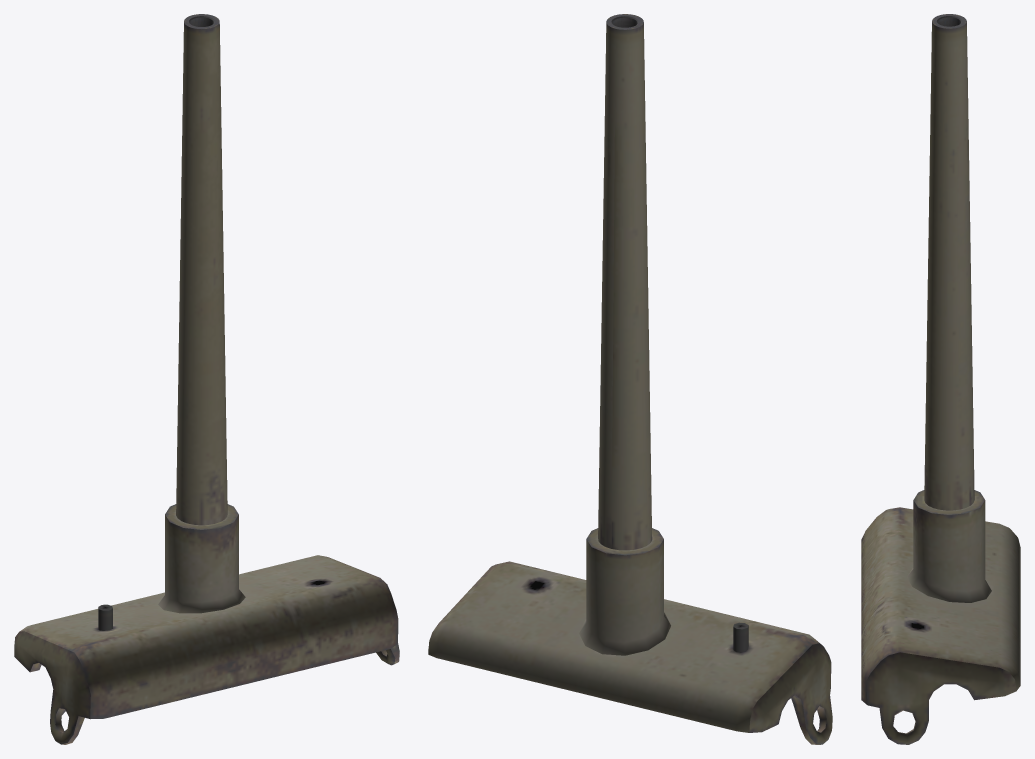
File: Gun_03.glb
3 renders of one model, left to right at view 1: azimuth 30°, elevation 25°; view 2: azimuth 150°, elevation 25°; view 3: azimuth 270°, elevation 25°, orthographic. The views are drawn at different scales.
Parts seen in each view (by area): view 1: set_0_group_0; view 2: set_0_group_0; view 3: set_0_group_0.
Boxes of the visible parts, left/top/right/bottom form: set_0_group_0: left=14, top=14, right=399, bottom=744; set_0_group_0: left=428, top=14, right=832, bottom=744; set_0_group_0: left=861, top=14, right=1020, bottom=744.
Bounding box in the file's own units: 1.23 × 2.31 × 0.5169.
1 material, 1 textured.
